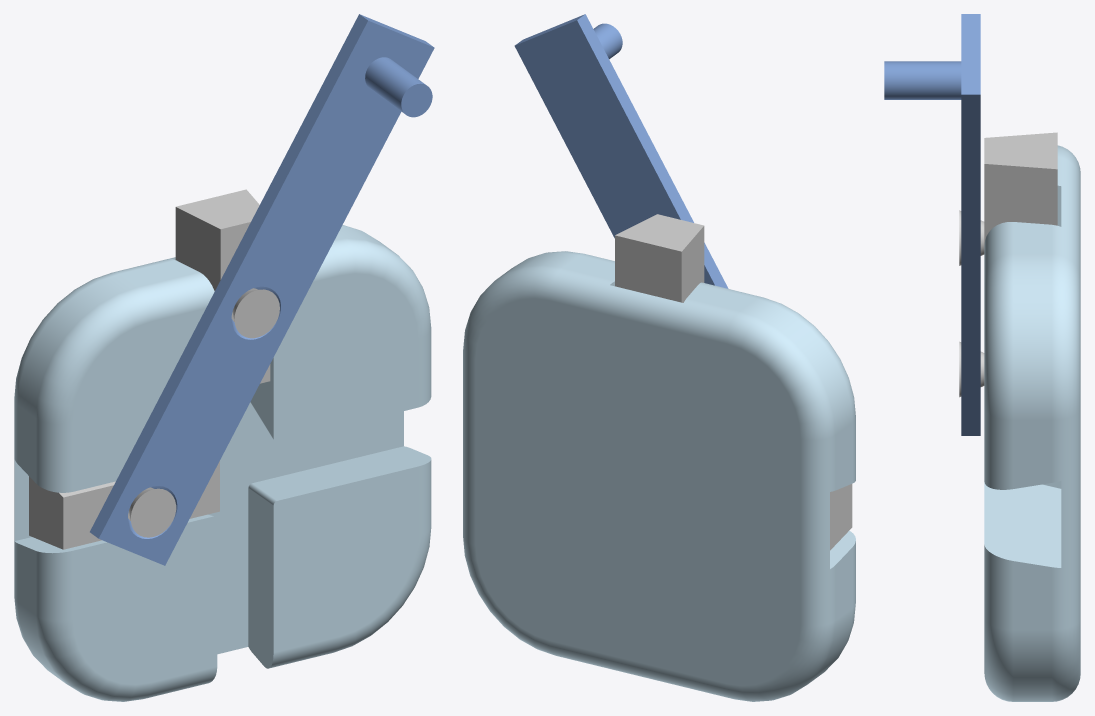
File: Assembly 1.gltf
The picture shows the model from 3 angles, left to right: view 1: azimuth 30°, elevation 25°; view 2: azimuth 150°, elevation 25°; view 3: azimuth 270°, elevation 25°; orthographic projection. The views are drawn at different scales.
Visible parts, largest first — view 1: Part 1, Part 3, Part 2 (×2); view 2: Part 1, Part 3, Part 2 (×2); view 3: Part 1, Part 3, Part 2 (×2).
Part boxes in pixels (<box>): Part 1: <box>14,225,431,701</box>; Part 3: <box>90,14,434,565</box>; Part 2 (×2): <box>29,189,279,549</box>; Part 1: <box>463,251,855,701</box>; Part 3: <box>514,14,728,288</box>; Part 2 (×2): <box>615,214,852,550</box>; Part 1: <box>984,145,1080,701</box>; Part 3: <box>884,14,980,435</box>; Part 2 (×2): <box>959,132,1057,397</box>.
Bounding box in the file's own units: 0.05 × 0.0786 × 0.0204.
